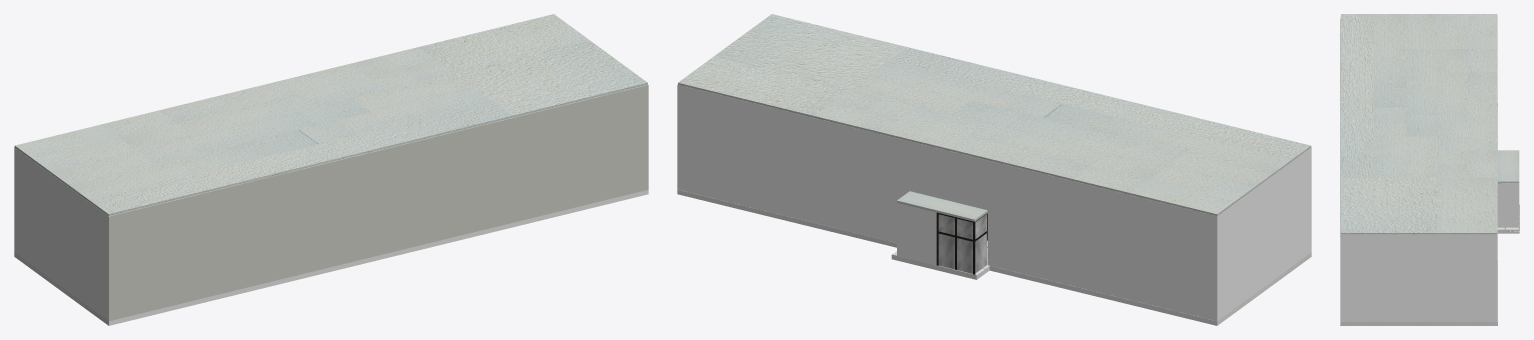
The model's file is A2__in_progress_with_textures 1.fbx.
The picture shows the model from 3 angles, left to right: view 1: azimuth 30°, elevation 25°; view 2: azimuth 150°, elevation 25°; view 3: azimuth 270°, elevation 25°; orthographic projection. The views are drawn at different scales.
Parts seen in each view (by area): view 1: First Floor, Roof, Ground; view 2: First Floor, Roof, Ground, Second Floor; view 3: Roof, First Floor, Ground, Second Floor.
Boxes of the visible parts, x1,y1,x2,y2 form: First Floor: (14,84,648,321); Roof: (14,14,647,215); Ground: (14,189,648,325); First Floor: (677,84,1311,321); Roof: (678,14,1311,216); Ground: (677,189,1311,325); Second Floor: (897,191,987,221); Roof: (1341,14,1497,234); First Floor: (1340,16,1519,321); Ground: (1340,103,1519,325); Second Floor: (1497,150,1519,183).
Size of the model in its own units: 9498 by 1873 by 3278.
